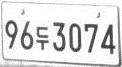0: (69, 22, 81, 52)
3: (52, 22, 66, 51)
4: (100, 23, 116, 54)
6: (20, 20, 34, 50)
7: (83, 23, 98, 53)
9: (5, 19, 18, 49)
두: (36, 26, 49, 51)
